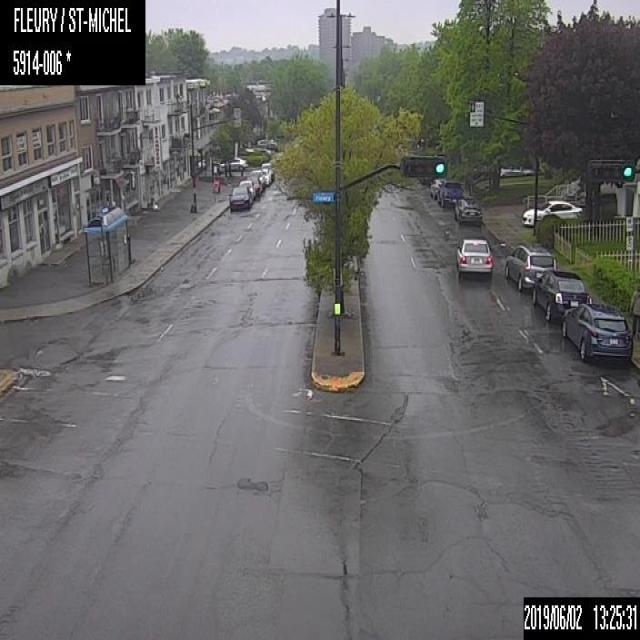Car: (560, 300, 633, 363), (454, 237, 494, 276)
Traffic-light: (399, 154, 447, 179), (621, 163, 635, 182), (433, 156, 446, 176)
